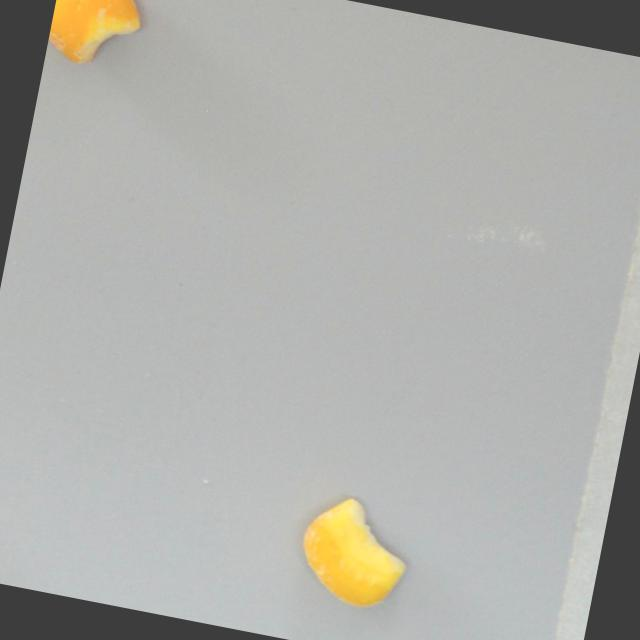dañado: (45, 0, 148, 77)
pelicula: (285, 485, 425, 622)
